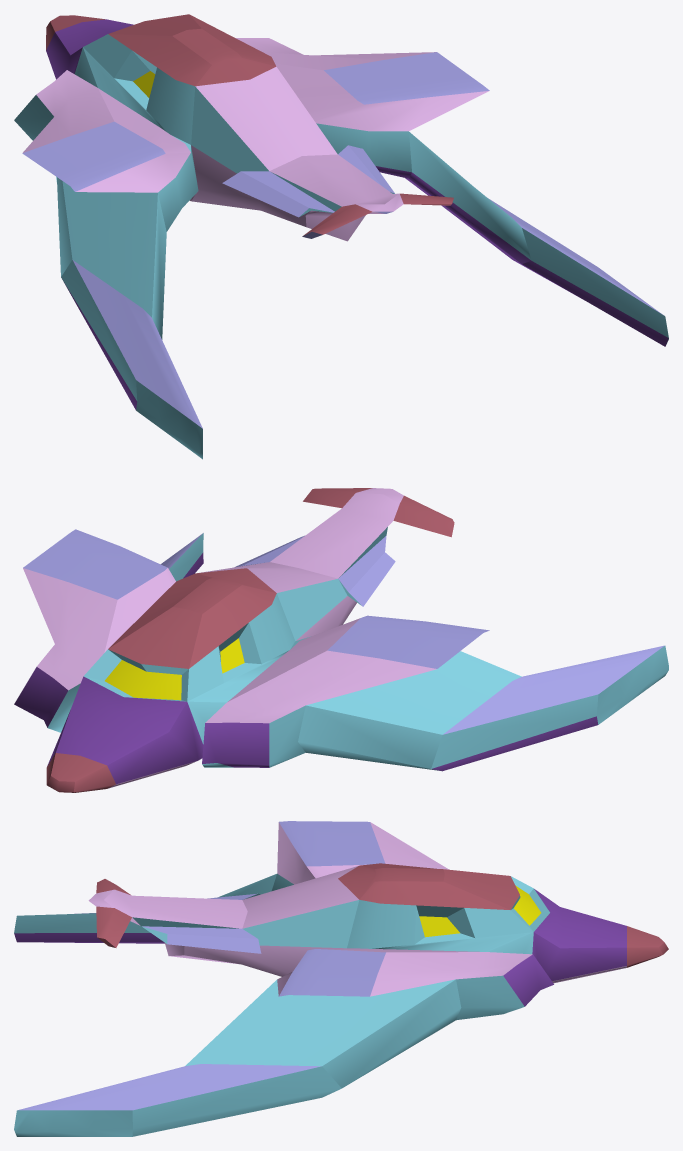
The model's file is sdfghjkl.fbx.
The picture shows the model from 3 angles, top to bottom: view 1: azimuth 30°, elevation 25°; view 2: azimuth 150°, elevation 25°; view 3: azimuth 270°, elevation 25°; orthographic projection. The views are drawn at different scales.
Visible parts, largest first — view 1: pCube1; view 2: pCube1; view 3: pCube1.
Boxes of the visible parts, left/top/right/bottom form: pCube1: left=14, top=14, right=668, bottom=459; pCube1: left=14, top=488, right=668, bottom=792; pCube1: left=14, top=821, right=668, bottom=1136.
Size of the model in its own units: 66.99 by 26.29 by 93.78.
